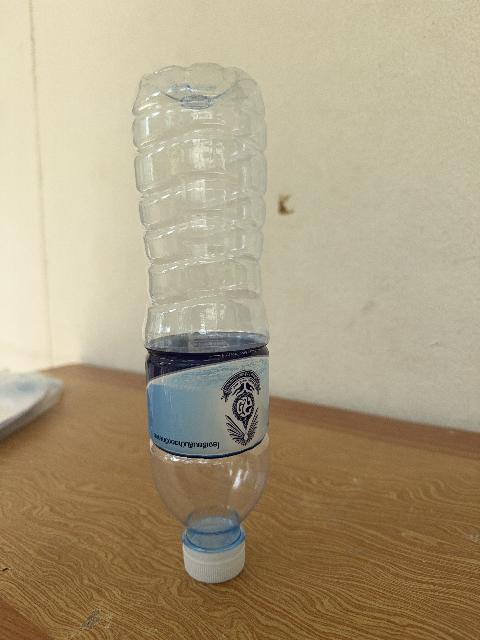bottle: (133, 64, 269, 582)
